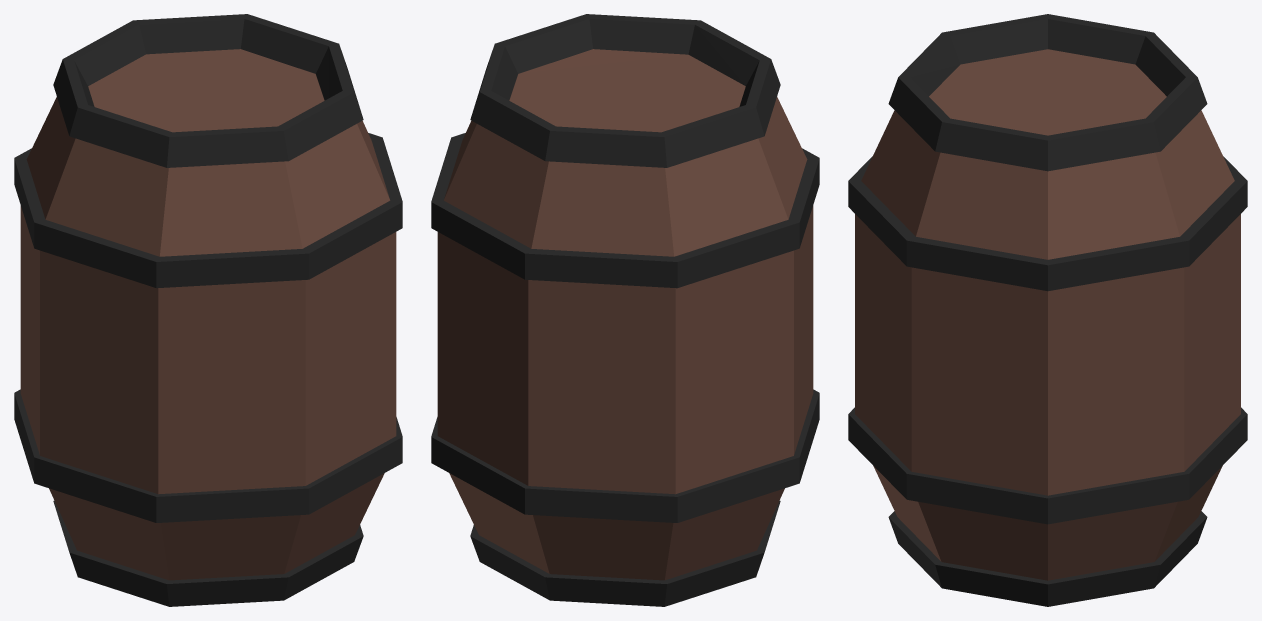
The model's file is Barrel1.fbx.
The picture shows the model from 3 angles, left to right: view 1: azimuth 30°, elevation 25°; view 2: azimuth 150°, elevation 25°; view 3: azimuth 270°, elevation 25°; orthographic projection.
Parts seen in each view (by area): view 1: Cylinder; view 2: Cylinder; view 3: Cylinder.
Boxes of the visible parts, x1,y1,x2,y2 form: Cylinder: (14,14,402,606); Cylinder: (431,14,819,606); Cylinder: (848,14,1247,606).
Size of the model in its own units: 155 by 200 by 155.
